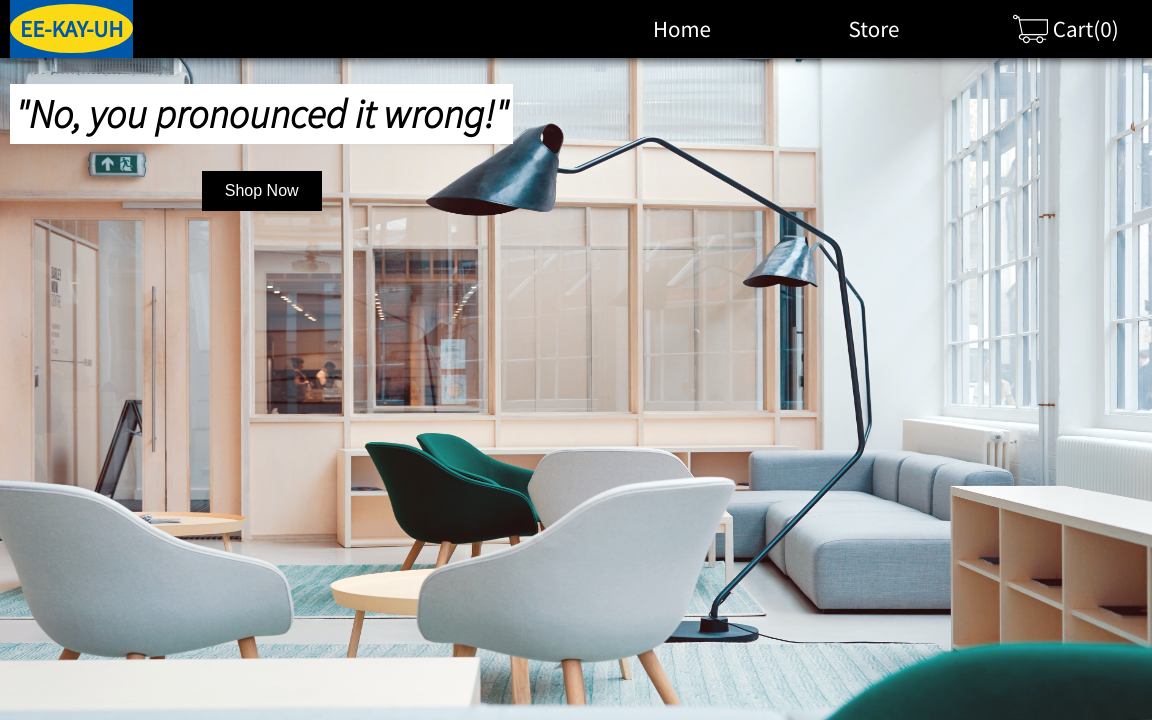
Test: HomePage Component › click Shop Now button go to shop page
Click the button "Shop Now": click(262, 191) [202,171,322,211]
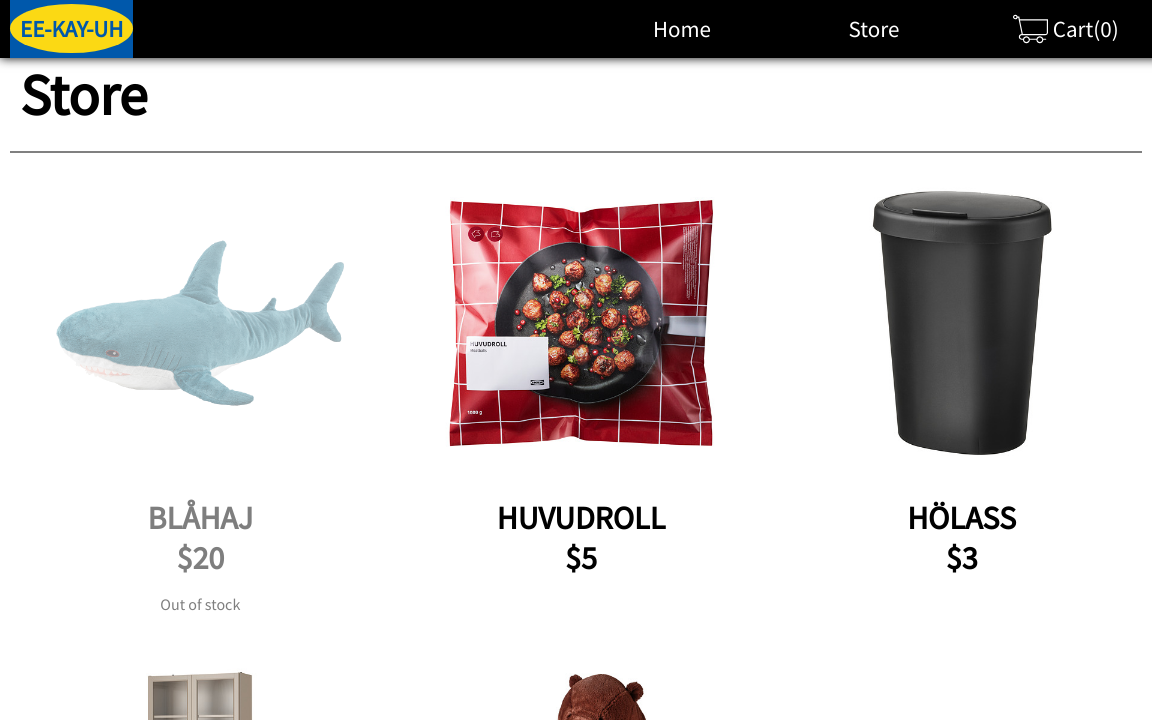
Expected: the heading "Store" is shown, [20,58,147,131]
